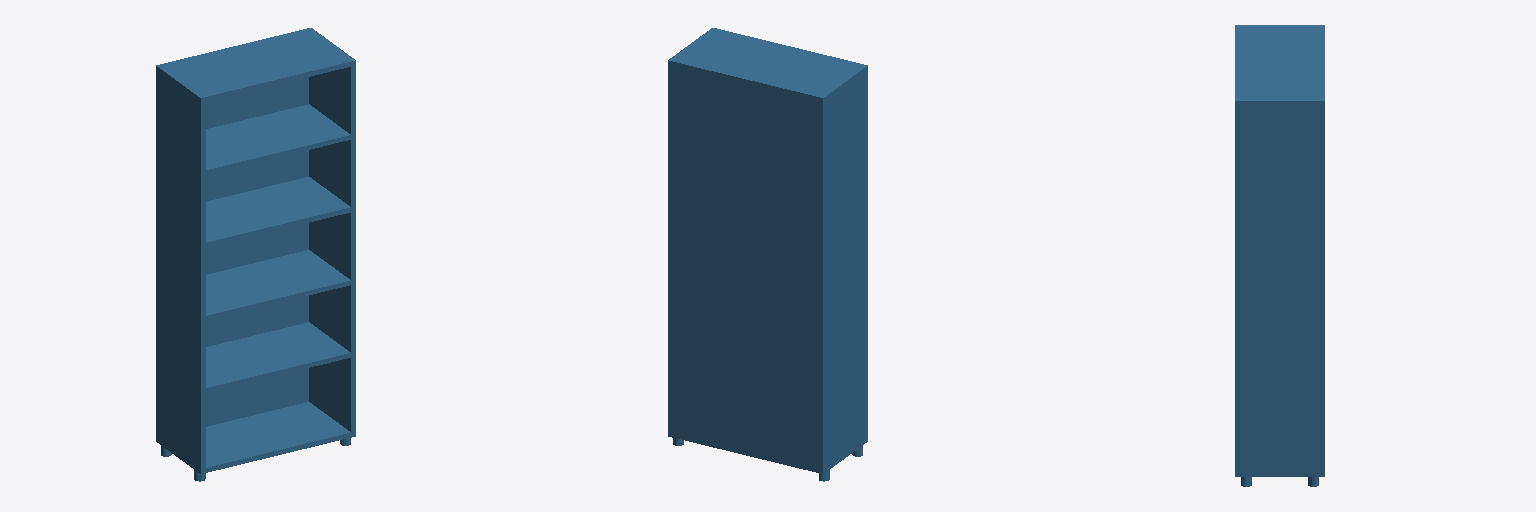
3 renders of one model, left to right at view 1: azimuth 30°, elevation 25°; view 2: azimuth 150°, elevation 25°; view 3: azimuth 270°, elevation 25°, orthographic.
Visible parts, largest first — view 1: sunban.001; view 2: sunban.001; view 3: sunban.001.
Boxes of the visible parts, x1,y1,x2,y2 form: sunban.001: [156, 28, 355, 481]; sunban.001: [668, 28, 867, 481]; sunban.001: [1235, 25, 1324, 486].
Bounding box in the file's own units: 80.03 × 190 × 40.
Materials: 1 (1 with a texture image).